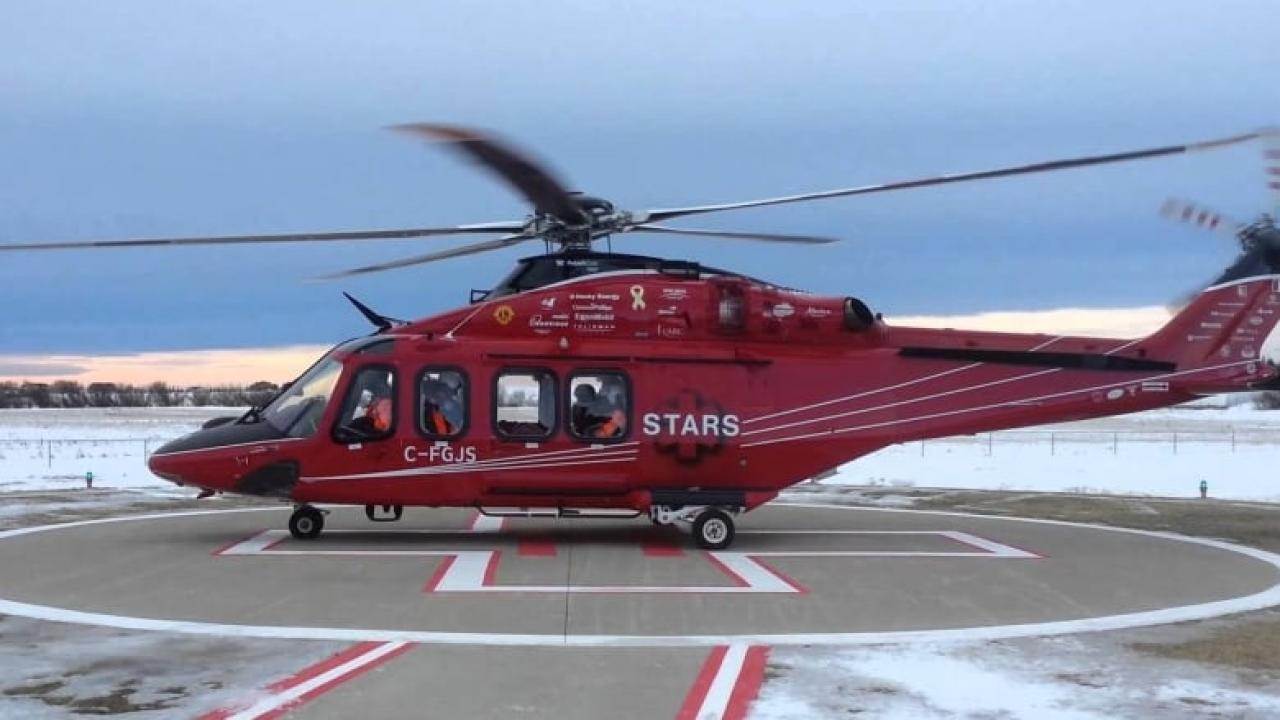Helicopter: (0, 113, 1280, 557)
